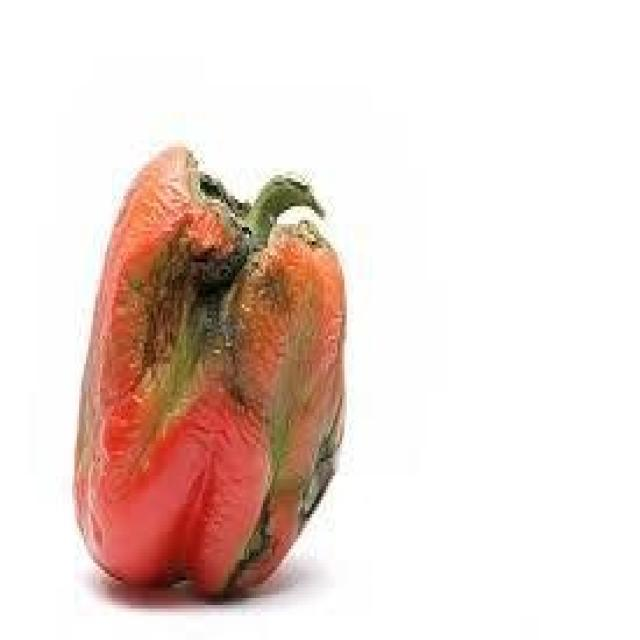Wet Waste: (41, 122, 360, 615)
